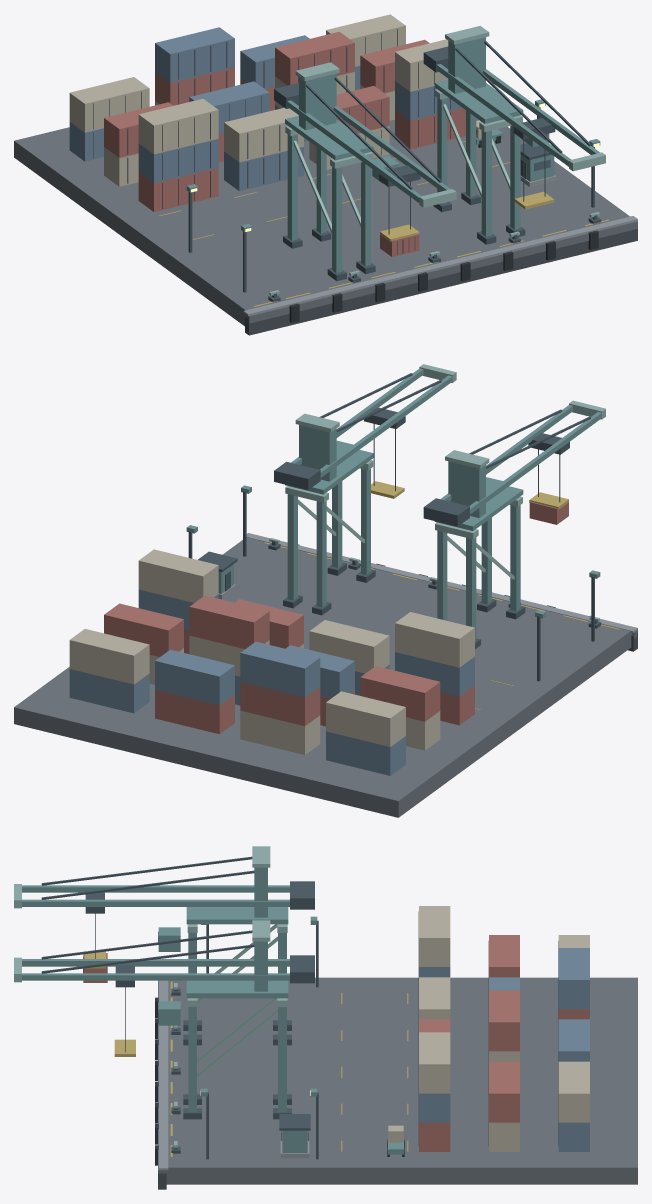
The model's file is gotham_cargo_port.glb.
3 views of the same model, one above another, from view 1: azimuth 30°, elevation 25°; view 2: azimuth 150°, elevation 25°; view 3: azimuth 270°, elevation 25° (orthographic).
Visible parts, largest first — view 1: Quay_Main_Slab, Yard_Concrete_Slab, Quay_Seawall_Lower, Yard_Container_R1C1L3, Yard_Container_R3C2L3, Yard_Container_R3C1L2, Yard_Container_R1C2L2, Quay_Cap_Edge, Yard_Container_R2C3L3, Quay_Seawall_Middle, Yard_Container_R1C1L2, Yard_Container_R1C1L1 (+41 smaller); view 2: Yard_Concrete_Slab, Quay_Main_Slab, Yard_Container_R3C2L3, Yard_Container_R3C4L2, Yard_Container_R3C1L2, Yard_Container_R3C3L2, Yard_Container_R1C1L3, Yard_Container_R2C3L3, Yard_Container_R1C4L3, Yard_Container_R2C1L2, Yard_Container_R1C2L2, Yard_Container_R2C4L2 (+32 smaller); view 3: Yard_Concrete_Slab, Quay_Main_Slab, Crane_Right_Boom_Girder.001, Crane_Left_Boom_Girder.001, Yard_Container_R1C4L3, Yard_Container_R3C2L3, Yard_Container_R3C4L2, Yard_Container_R1C1L3, Yard_Container_R2C3L3, Yard_Container_R2C4L2, Crane_Left_Boom_Girder, Crane_Right_Boom_Girder (+24 smaller).
Boxes of the visible parts, <box> form: Quay_Main_Slab: <box>162,161,629,326</box>; Yard_Concrete_Slab: <box>14,118,526,265</box>; Quay_Seawall_Lower: <box>245,229,637,335</box>; Yard_Container_R1C1L3: <box>138,98,218,154</box>; Yard_Container_R3C2L3: <box>155,27,234,82</box>; Yard_Container_R3C1L2: <box>69,77,149,132</box>; Yard_Container_R1C2L2: <box>224,107,303,162</box>; Quay_Cap_Edge: <box>243,216,637,316</box>; Yard_Container_R2C3L3: <box>275,31,354,85</box>; Quay_Seawall_Middle: <box>245,221,637,323</box>; Yard_Container_R1C1L2: <box>138,139,218,183</box>; Yard_Container_R1C1L1: <box>138,167,218,211</box>; Yard_Concrete_Slab: <box>14,633,546,817</box>; Quay_Main_Slab: <box>220,537,632,708</box>; Yard_Container_R3C2L3: <box>240,641,320,697</box>; Yard_Container_R3C4L2: <box>69,629,149,684</box>; Yard_Container_R3C1L2: <box>326,691,405,746</box>; Yard_Container_R3C3L2: <box>155,649,234,705</box>; Yard_Container_R1C1L3: <box>395,612,474,667</box>; Yard_Container_R2C3L3: <box>189,595,269,648</box>; Yard_Container_R1C4L3: <box>138,549,218,602</box>; Yard_Container_R2C1L2: <box>360,666,440,721</box>; Yard_Container_R1C2L2: <box>309,620,389,673</box>; Yard_Container_R2C4L2: <box>104,603,183,656</box>; Yard_Concrete_Slab: <box>338,977,637,1184</box>; Quay_Main_Slab: <box>165,977,338,1184</box>; Crane_Right_Boom_Girder.001: <box>22,973,289,980</box>; Crane_Left_Boom_Girder.001: <box>22,899,289,906</box>; Yard_Container_R1C4L3: <box>419,1032,450,1093</box>; Yard_Container_R3C2L3: <box>558,948,589,1009</box>; Yard_Container_R3C4L2: <box>558,1061,589,1122</box>; Yard_Container_R1C1L3: <box>419,906,450,966</box>; Yard_Container_R2C3L3: <box>489,990,519,1051</box>; Yard_Container_R2C4L2: <box>489,1061,519,1122</box>; Crane_Left_Boom_Girder: <box>22,885,289,892</box>; Crane_Right_Boom_Girder: <box>22,959,289,966</box>.
Bounding box in the file's own units: 36.5 × 17.82 × 50.02.
